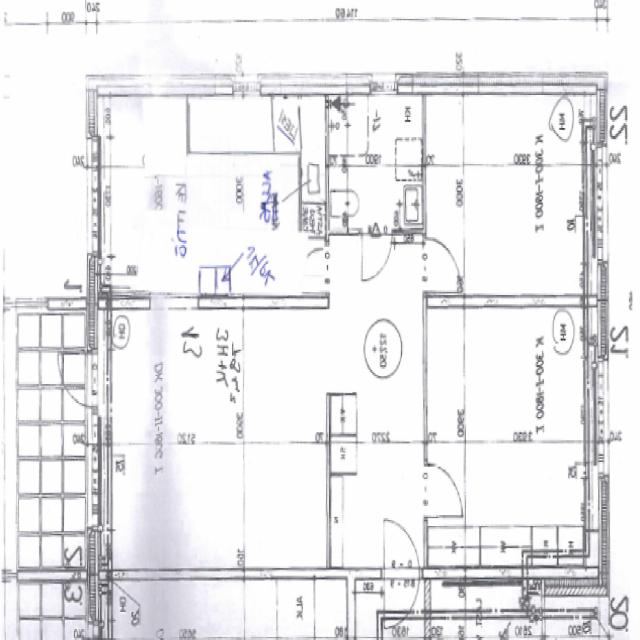door: (52, 354, 98, 407), (384, 514, 420, 580), (384, 570, 420, 635), (423, 239, 461, 292), (423, 466, 460, 518), (294, 246, 328, 294), (362, 229, 392, 282)
